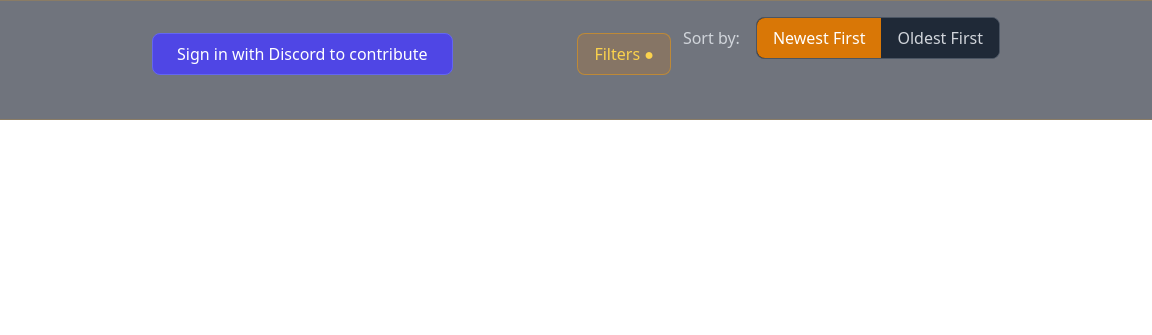
it: ArchivesToolbar › handles filters › should show clear filters button when filters are active
Open filters
Click the button "Filters ●" at (624, 54), box [577,33,671,75]
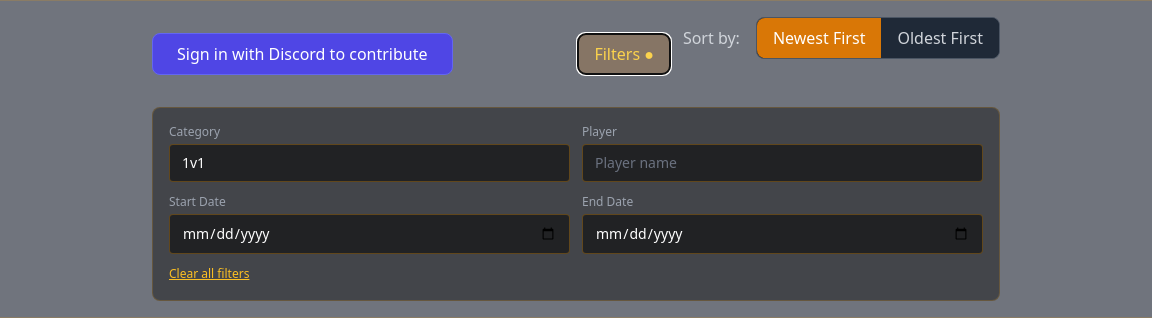
Check: the button "Clear all filters" is shown, box [169,266,249,282]
